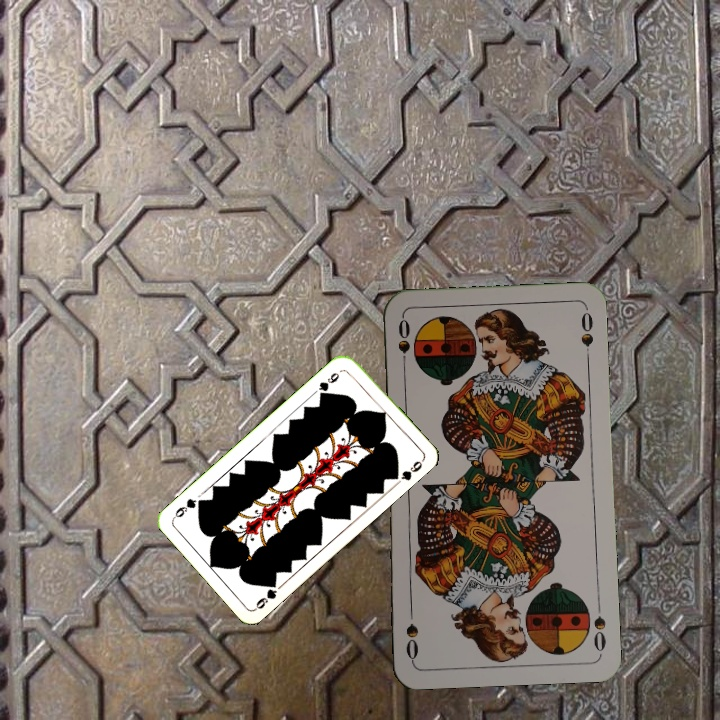G9: (251, 576, 280, 612), (314, 368, 342, 400)
SO: (393, 314, 413, 374), (589, 596, 609, 654)
